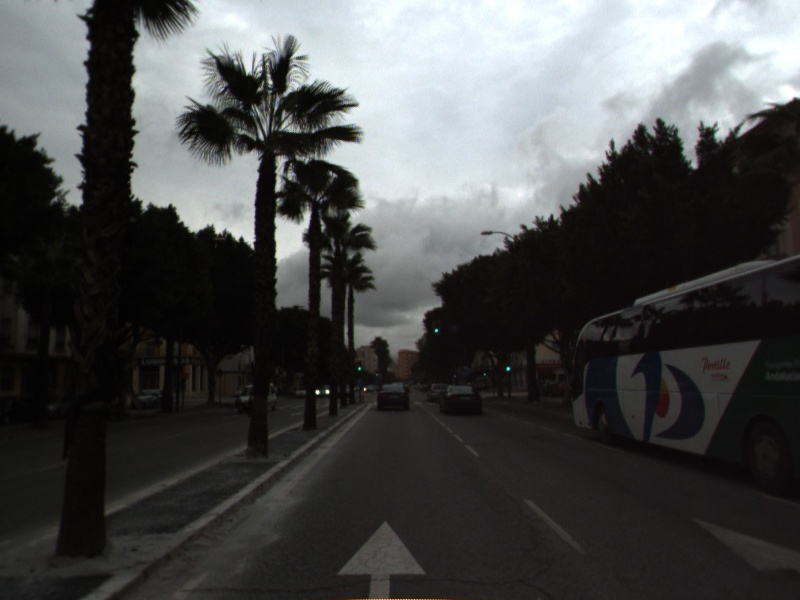STRAIGHT: (332, 516, 431, 600)
